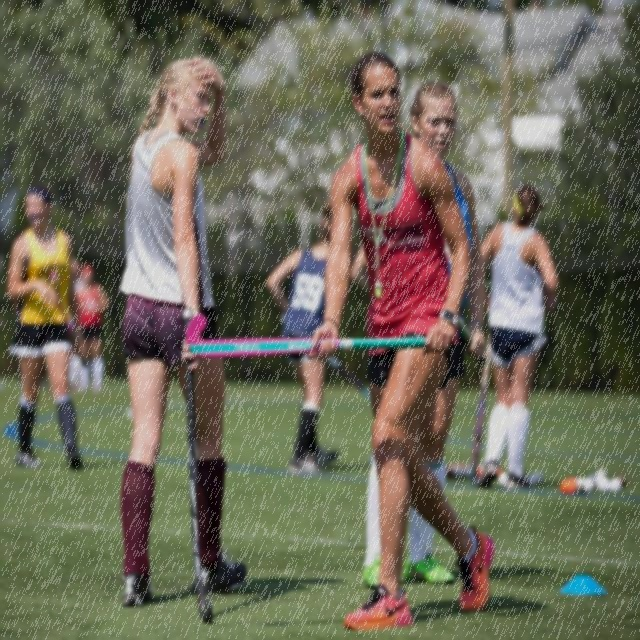pessoa: (304, 47, 498, 638), (112, 48, 254, 614), (359, 79, 488, 590), (476, 184, 562, 488), (5, 183, 84, 472), (266, 204, 342, 478), (64, 257, 115, 397)
